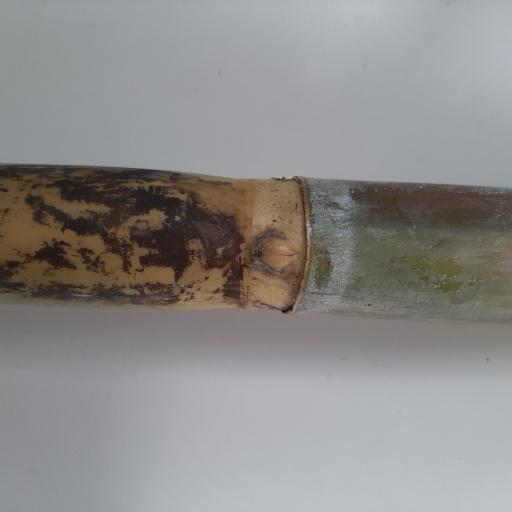Bud: (252, 236, 302, 270)
